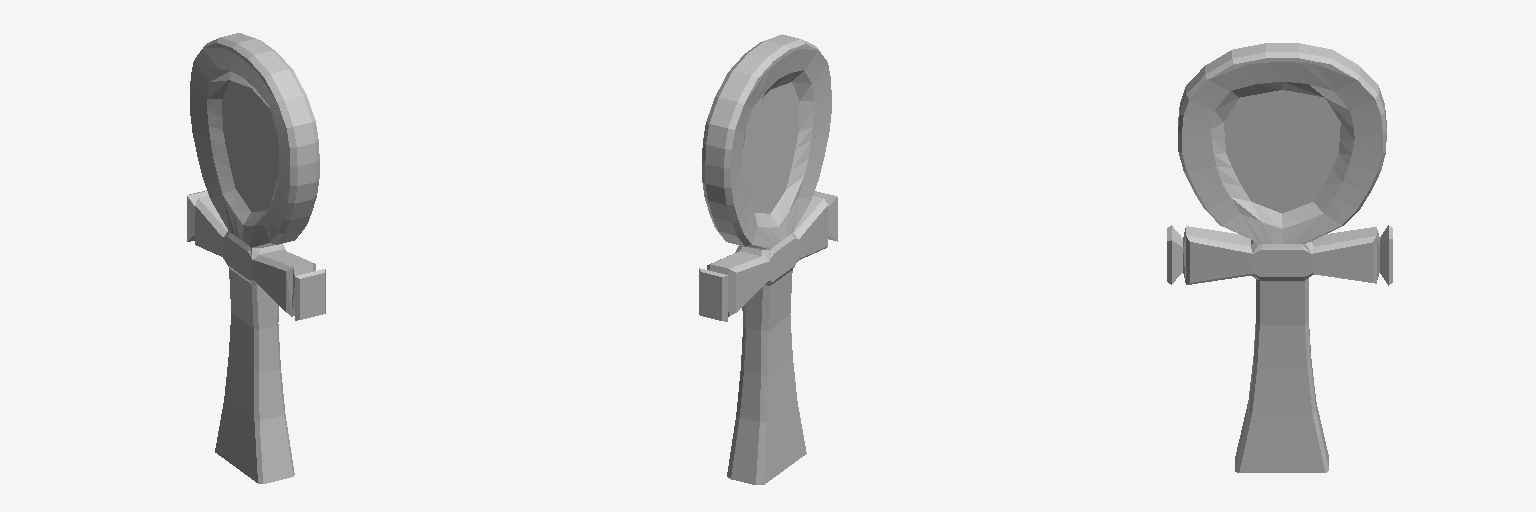
The model's file is relic_mirror.obj.
The picture shows the model from 3 angles: view 1: azimuth 30°, elevation 25°; view 2: azimuth 150°, elevation 25°; view 3: azimuth 270°, elevation 25°; orthographic projection.
Visible parts, largest first — view 1: relic_mirror; view 2: relic_mirror; view 3: relic_mirror.
Part boxes in pixels (x1,y1,x2,y2): relic_mirror: (187, 33, 325, 483); relic_mirror: (699, 34, 837, 484); relic_mirror: (1167, 43, 1392, 472).
Size of the model in its own units: 0.6926 by 7.5 by 3.68.